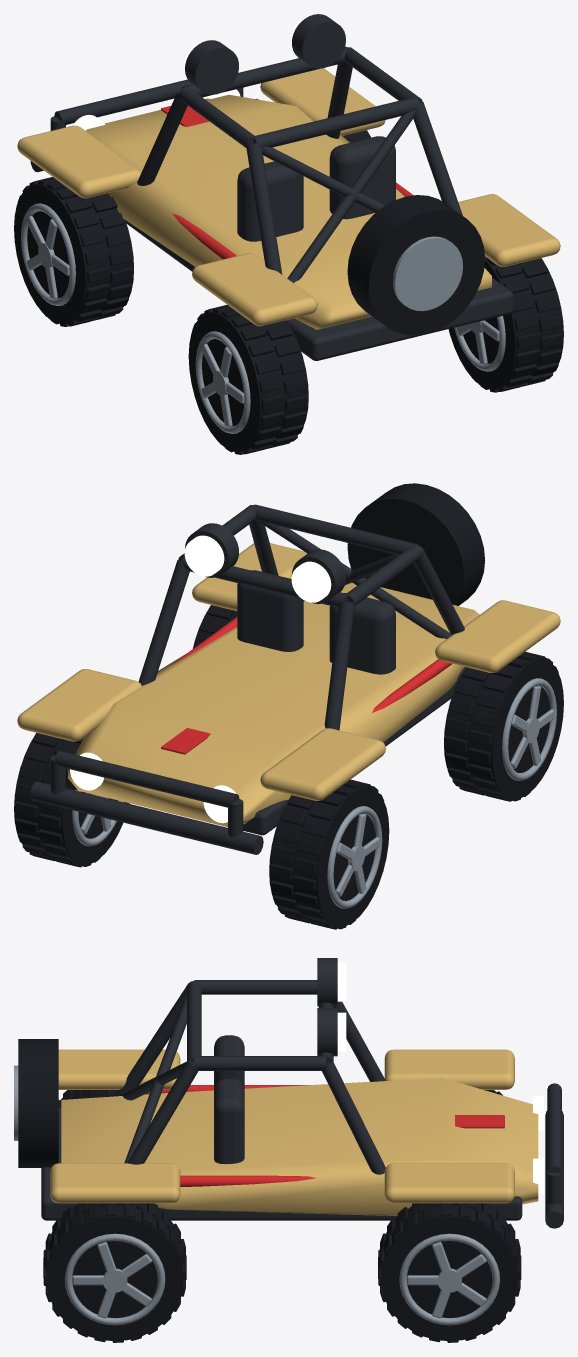
File: rally-buggy.glb
3 renders of one model, top to bottom at view 1: azimuth 30°, elevation 25°; view 2: azimuth 150°, elevation 25°; view 3: azimuth 270°, elevation 25°, orthographic. The views are drawn at different scales.
Parts seen in each view (by area): view 1: RaisedBody, Tire (×3), WideFender (×4), SpareTire, Seat (×2), ExposedChassis, RoofLightHousing (×2), SpareRim, Rim (×3), RearCrossBrace (×2), RearCage (×2), RearRoofBar (+5 smaller); view 2: RaisedBody, WideFender (×4), Tire (×3), SpareTire, Seat (×2), BullBar, FrontCage (×2), Rim (×2), BullBarTop, RoundRoofLight (×2), RearRoofBar, RearCage (×2) (+8 smaller); view 3: RaisedBody, Tire (×2), WideFender (×4), SpareTire, Rim (×2), RoofCage (×2), Seat (×2), ExposedChassis, RearCage (×2), FrontCage (×2), RearCrossBrace (×2), RoofLightHousing (×2) (+6 smaller).
Part boxes in pixels (box(x1,y1,x2,y2)): RaisedBody: box(85, 94, 491, 329); Tire (×3): box(14, 184, 563, 452); WideFender (×4): box(17, 68, 560, 326); SpareTire: box(347, 195, 484, 335); Seat (×2): box(237, 136, 395, 241); ExposedChassis: box(125, 220, 513, 360); RoofLightHousing (×2): box(185, 14, 345, 94); SpareRim: box(393, 236, 462, 311); Rim (×3): box(21, 203, 505, 433); RearCrossBrace (×2): box(261, 110, 415, 282); RearCage (×2): box(246, 102, 462, 274); RearRoofBar: box(253, 97, 419, 147); RaisedBody: box(68, 582, 479, 826); WideFender (×4): box(17, 543, 560, 800); Tire (×3): box(14, 658, 563, 926); SpareTire: box(347, 483, 484, 605); Seat (×2): box(237, 570, 395, 674); BullBar: box(30, 781, 263, 854); FrontCage (×2): box(138, 560, 354, 730); Rim (×2): box(327, 678, 556, 908); BullBarTop: box(54, 751, 239, 807); RoundRoofLight (×2): box(184, 535, 331, 602); RearRoofBar: box(253, 504, 419, 555); RearCage (×2): box(249, 520, 464, 635); RaisedBody: box(61, 1078, 538, 1215); Tire (×2): box(46, 1203, 518, 1341); WideFender (×4): box(50, 1049, 514, 1203); SpareTire: box(18, 1039, 58, 1167); Rim (×2): box(64, 1233, 499, 1325); RoofCage (×2): box(194, 980, 325, 1070); Seat (×2): box(214, 1035, 244, 1164); ExposedChassis: box(41, 1108, 522, 1220); RearCage (×2): box(115, 983, 198, 1164); FrontCage (×2): box(322, 1001, 385, 1174); RearCrossBrace (×2): box(119, 993, 186, 1163); RoofLightHousing (×2): box(317, 958, 337, 1056).
Bounding box in the file's own units: 2.59 × 2.36 × 4.09.
